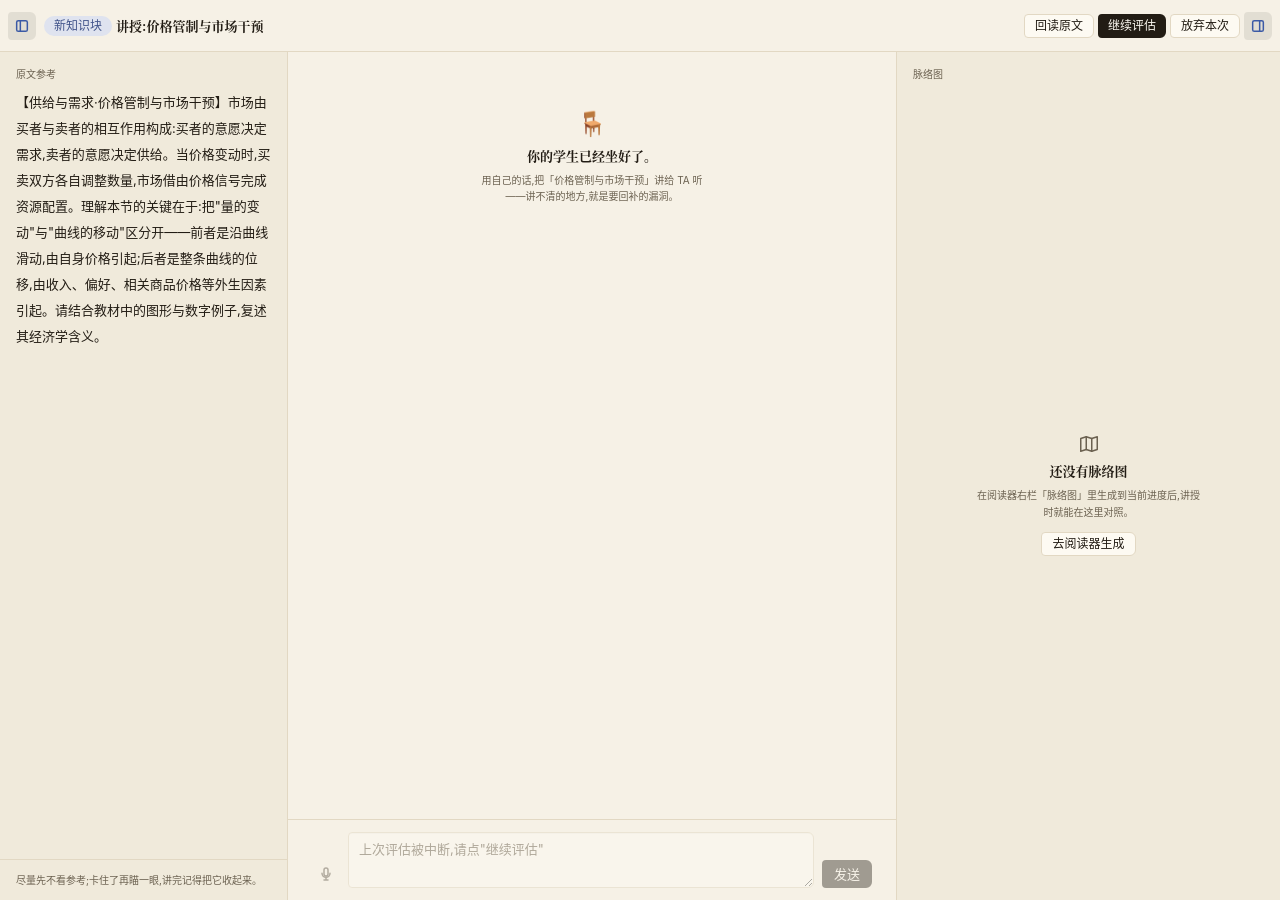
it: 费曼对话页(契约 v2) › 评估中断(evaluating)水合:输入禁用,"继续评估"用同 id 续跑
Expected: the text box is disabled, [348,832,814,888]
Expected: the button "发送" is disabled, [822,860,872,888]
Click the button "继续评估". click: (1132, 26)
box: [1098,14,1166,38]
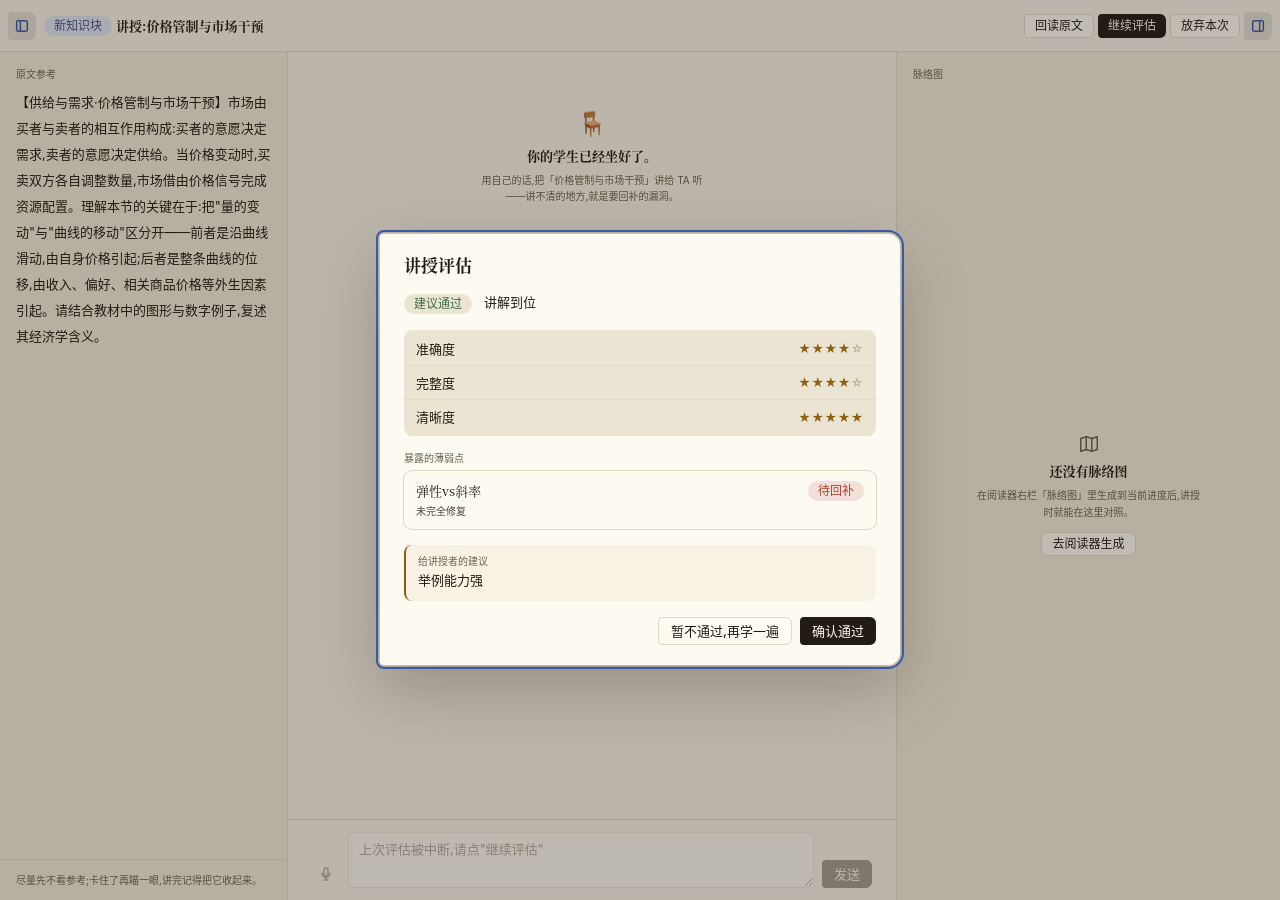
Expected: the dialog "讲授评估" is shown, [380,234,900,666]
